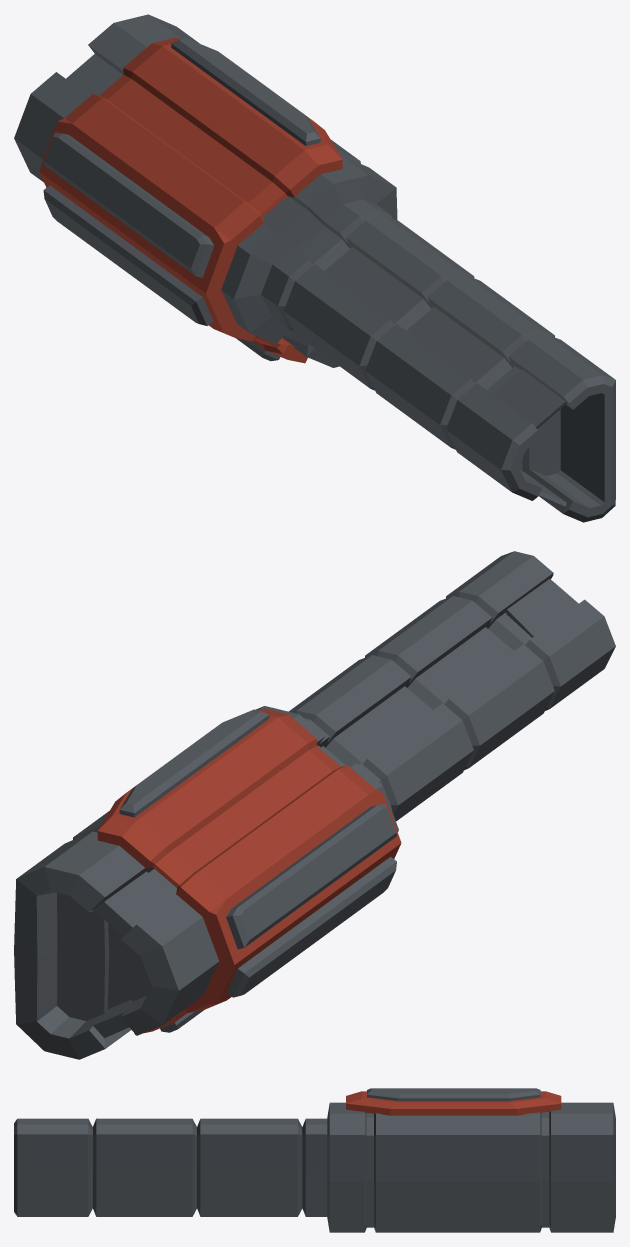
File: Fighter_10_Thruster_Right_Red.fbx
The picture shows the model from 3 angles, top to bottom: view 1: azimuth 30°, elevation 25°; view 2: azimuth 150°, elevation 25°; view 3: azimuth 270°, elevation 25°; orthographic projection. The views are drawn at different scales.
Parts seen in each view (by area): view 1: Fighter_10_Thruster_Right_Red; view 2: Fighter_10_Thruster_Right_Red; view 3: Fighter_10_Thruster_Right_Red.
Part boxes in pixels (x1,y1,x2,y2): Fighter_10_Thruster_Right_Red: (14,14,615,522); Fighter_10_Thruster_Right_Red: (14,551,615,1059); Fighter_10_Thruster_Right_Red: (14,1088,615,1232).
Bounding box in the file's own units: 311 × 362 × 1360.
2 materials, 2 textured.
